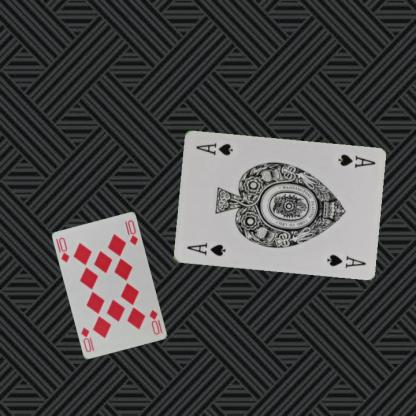10d: (147, 308, 164, 336), (56, 234, 71, 264)
As: (184, 240, 226, 258), (335, 152, 376, 169)
